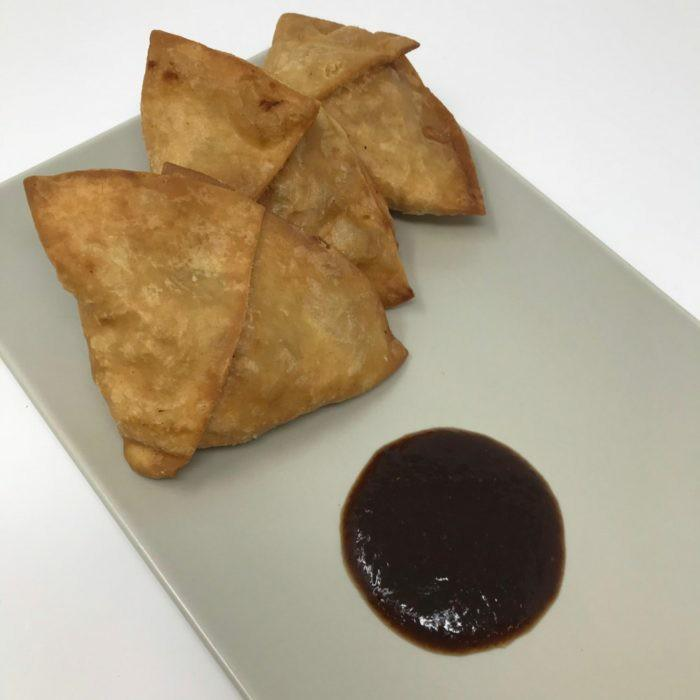Samosa: (25, 172, 411, 484), (144, 31, 413, 301), (253, 16, 484, 223)
